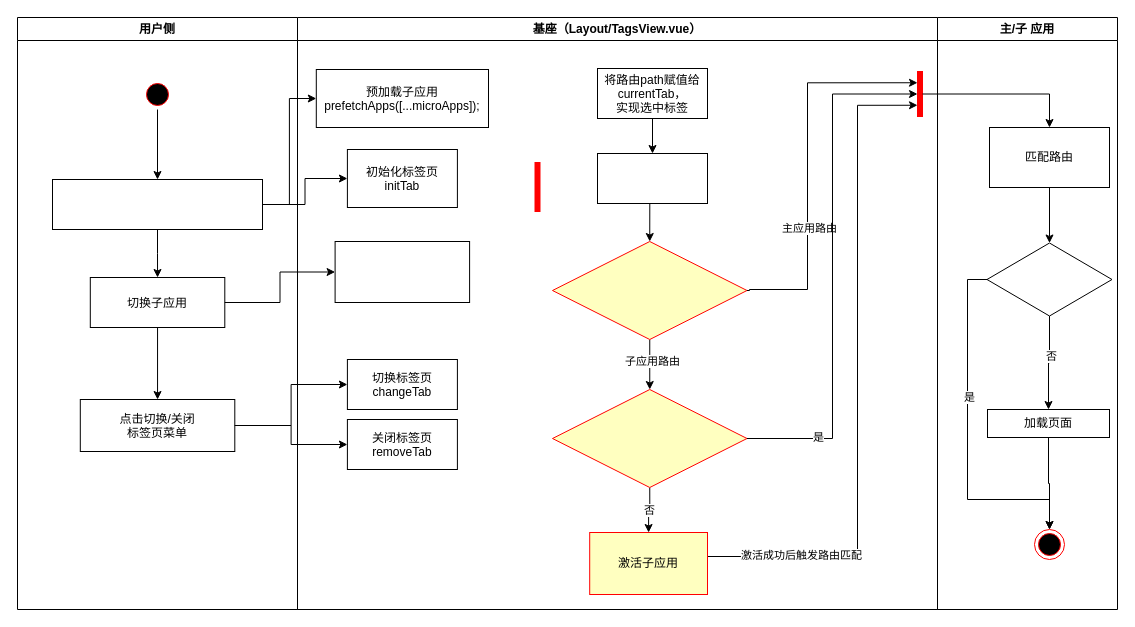
This 1135x627 diagram has some shape labels left out. The shapes that lost their labels are listed below. From the top down, each one's centre as x and y in pixels, then its label:
At [652,178]: "watch监听路由变化".
At [157,204]: "访问 https://porder2.sit.sf-express.com/v2".
At [402,271]: "切换路由 切换子应用/选择菜单".
At [649,290]: "通过路由的前缀匹配 子应用前缀 判断是否基座路由？".
At [1049,279]: "是否keepAlive".
At [649,438]: "loadedApp[microApp.name] 是否已经激活过子应用？".
